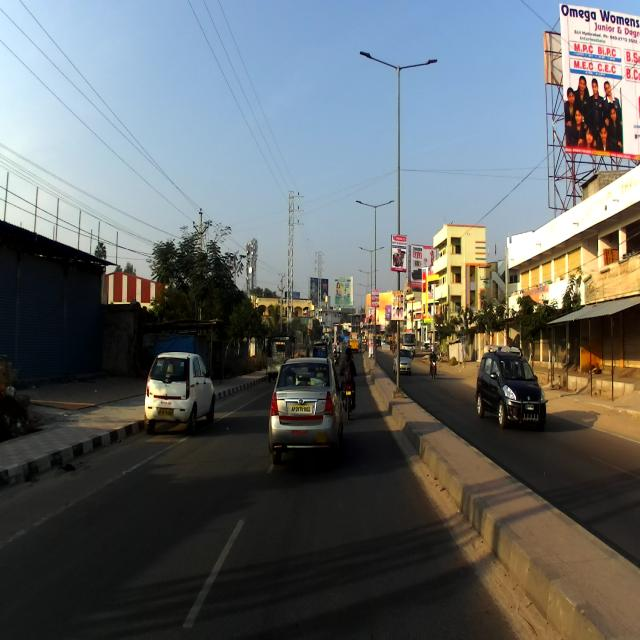car ahead at: (272, 350, 342, 461), (142, 347, 218, 438), (475, 344, 551, 434)
